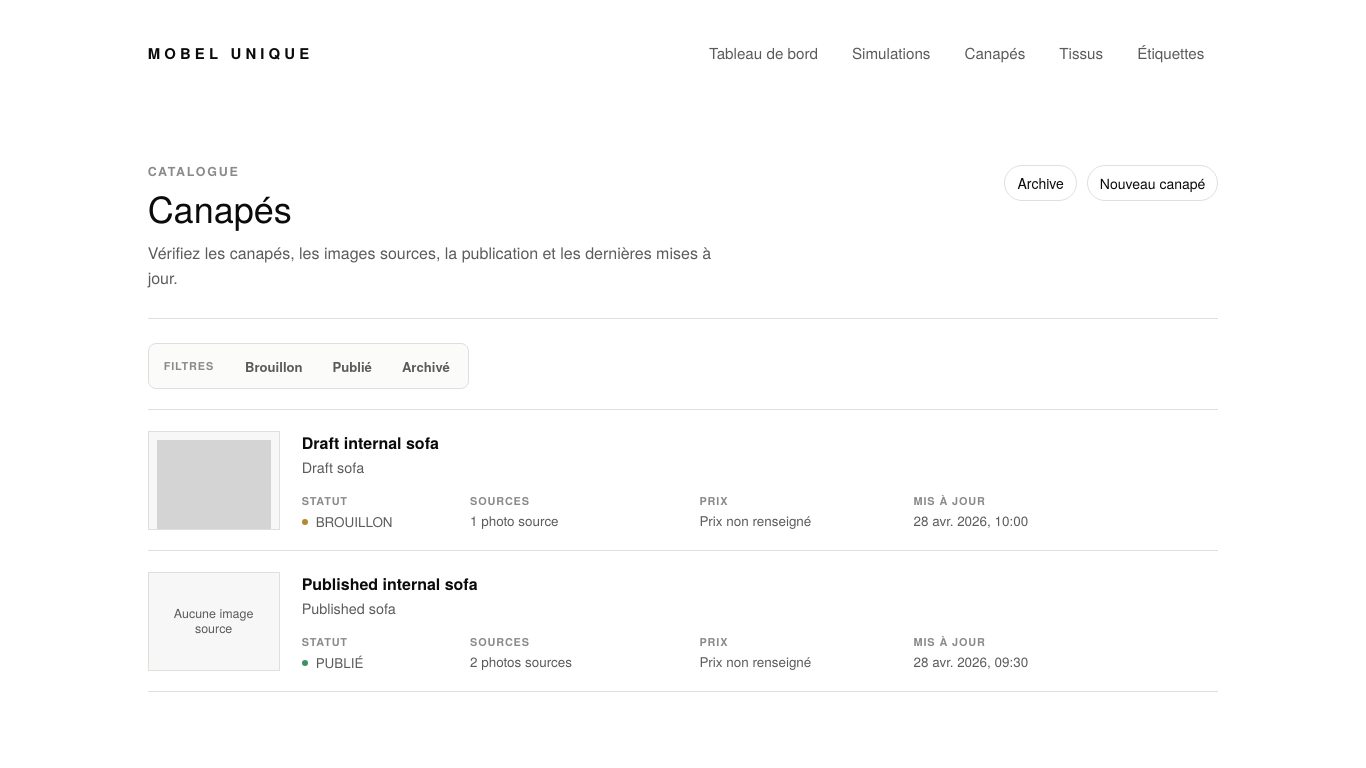
Test case: Admin catalog pages › filters the sofa list by lifecycle status above the list
The image size is (1366, 768).
Expected: the heading "Canapés" is shown, [148,184,292,234]
Expected: the text "Filtres" is shown, [164,359,214,374]
What coordinates should you click on to do the following:
click the button "Brouillon"
I would click on:
 (274, 366)
Its box is [232,349,316,383].
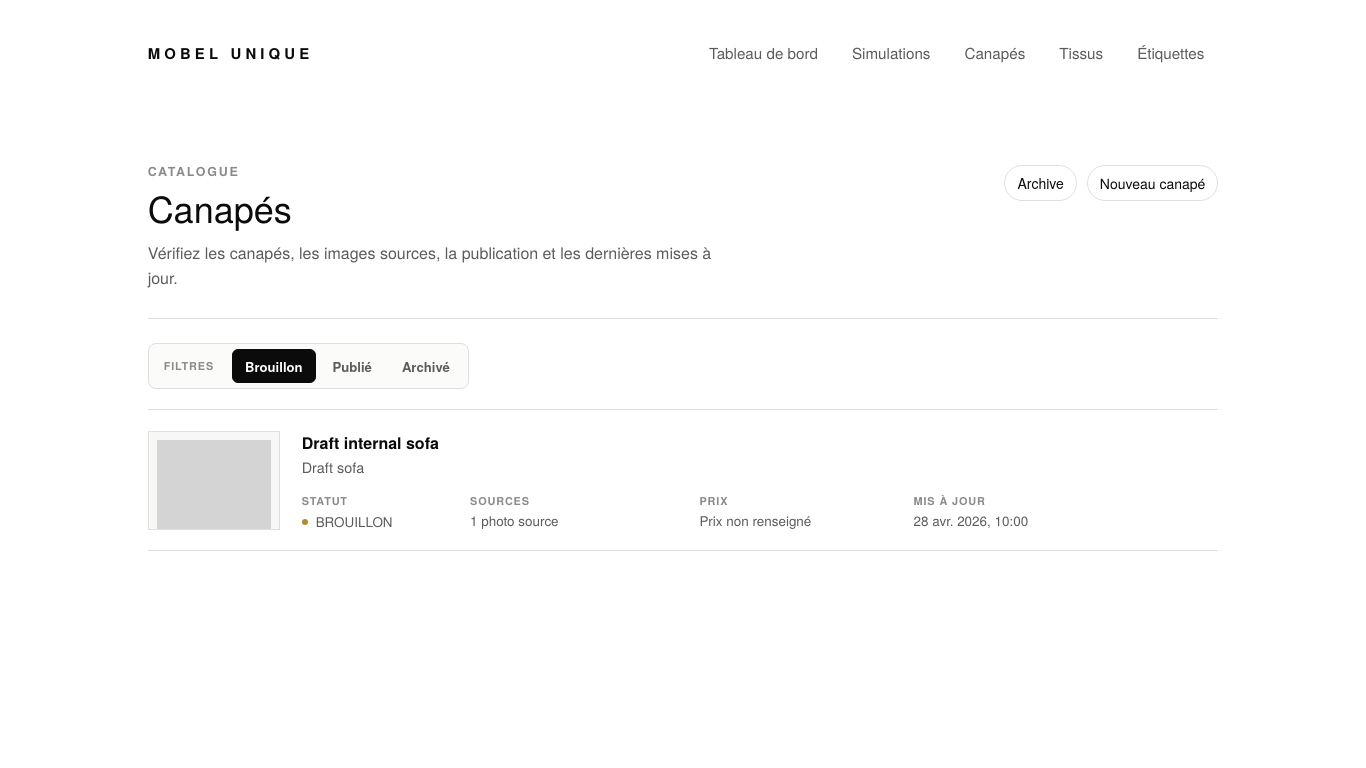
Expected: the link with aria-label "Ouvrir Draft sofa" is shown, [148,431,1028,531]
What coordinates should you click on to do the following:
click the button "Publié"
I would click on:
 (352, 366)
Its box is [320,349,385,383].
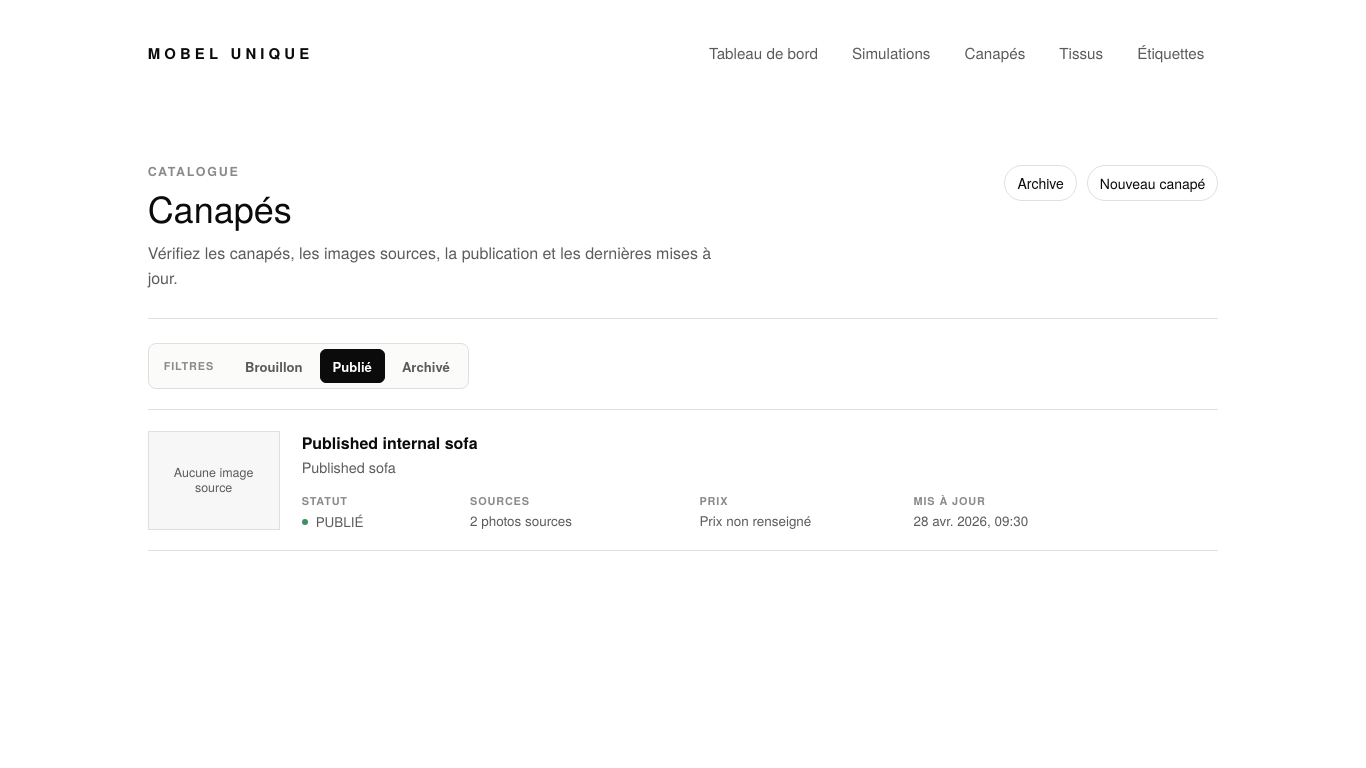
Result: the link with aria-label "Ouvrir Published sofa" is shown at [148,431,1028,531]
What coordinates should you click on to do the following:
click the button "Archivé"
I would click on:
 (426, 366)
Its box is [389,349,463,383].
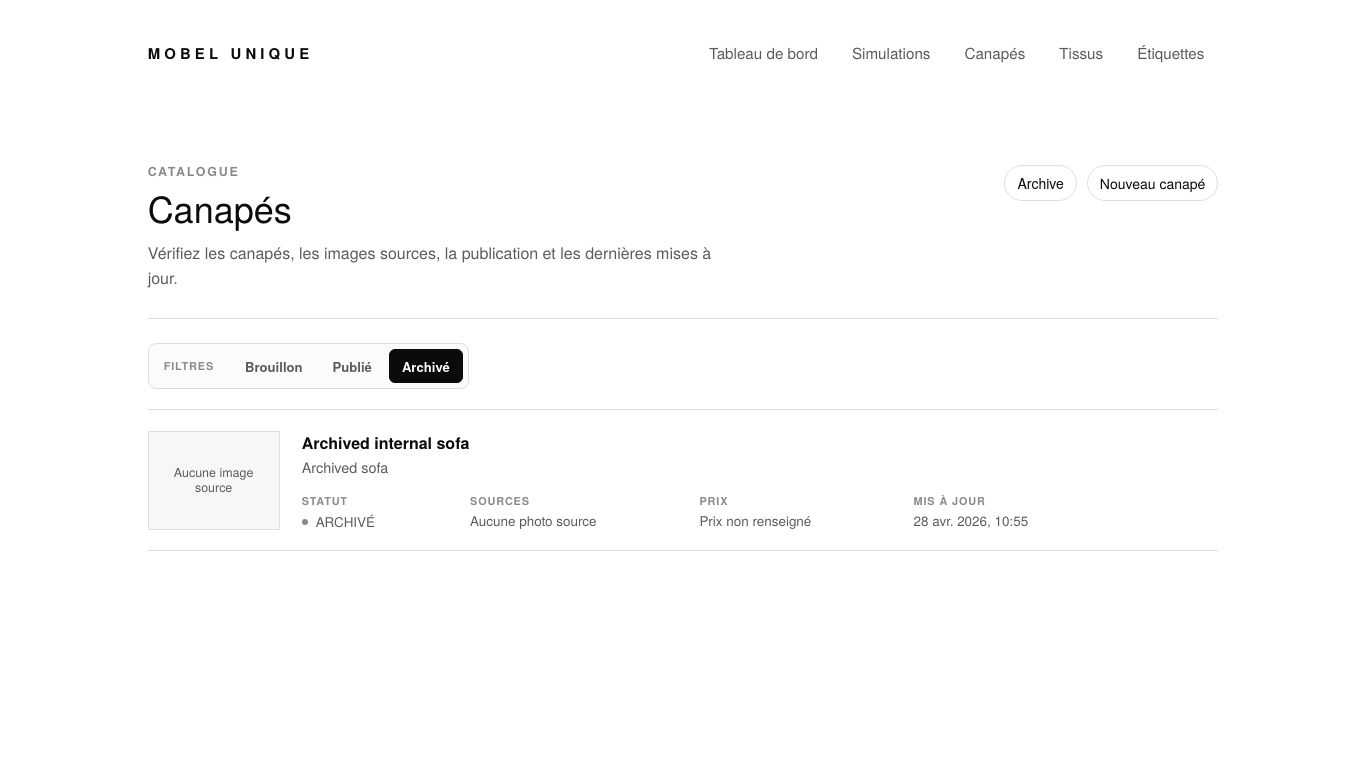
Result: the link with aria-label "Ouvrir Archived sofa" is shown at [148,431,1028,531]
What coordinates should you click on to do the following:
click the button "Archivé"
I would click on:
 (426, 366)
Its box is [389,349,463,383].
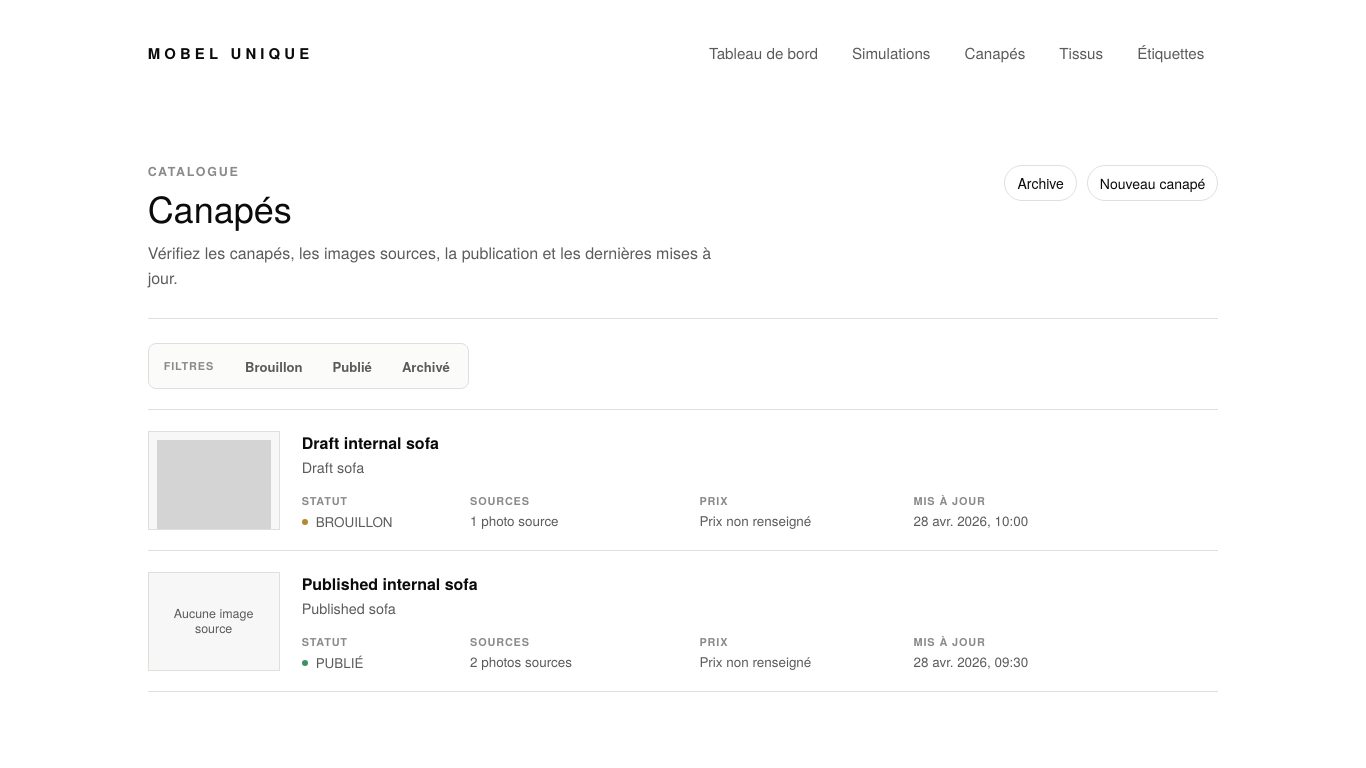
Result: the link with aria-label "Ouvrir Draft sofa" is shown at [148,431,1028,531]
Result: the link with aria-label "Ouvrir Published sofa" is shown at [148,572,1028,672]
